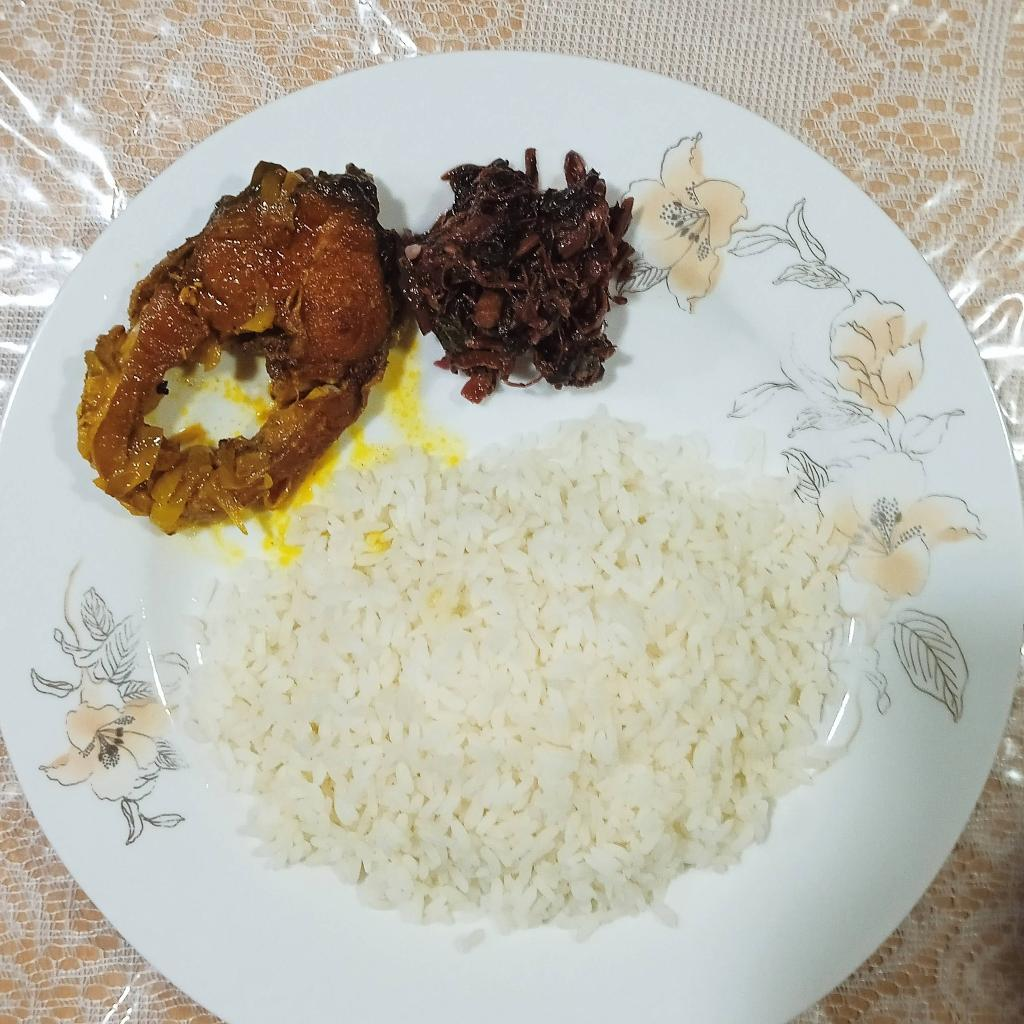fish: (73, 157, 397, 529)
rice: (186, 420, 850, 943)
shak: (407, 160, 632, 396)
